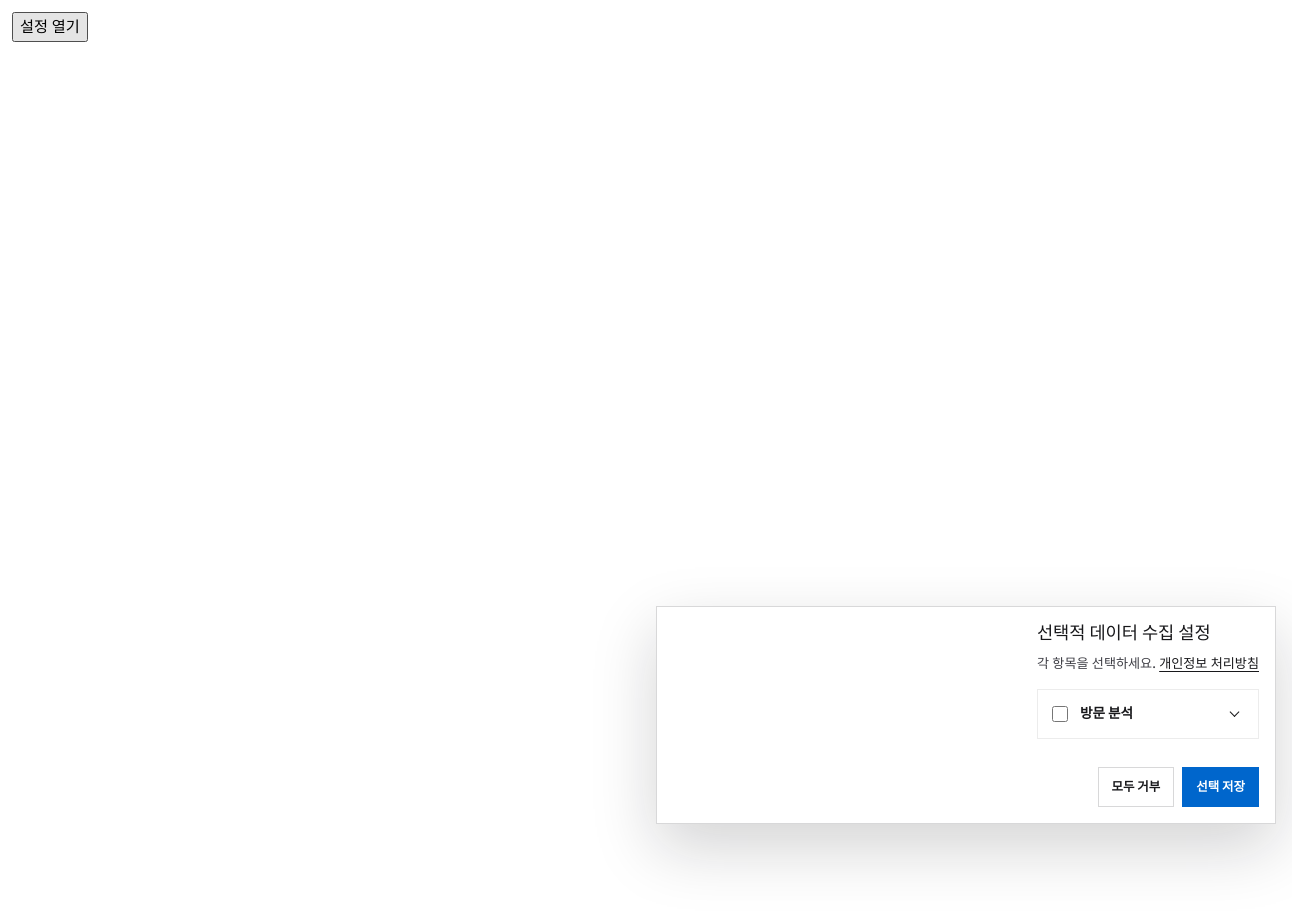
Test: AnalyticsConsentProvider › 선택이 없으면 배너를 열고 거부를 180일 저장한다
Step 1. Click the button "모두 거부" → (1136, 787), box [1098,767,1174,807]
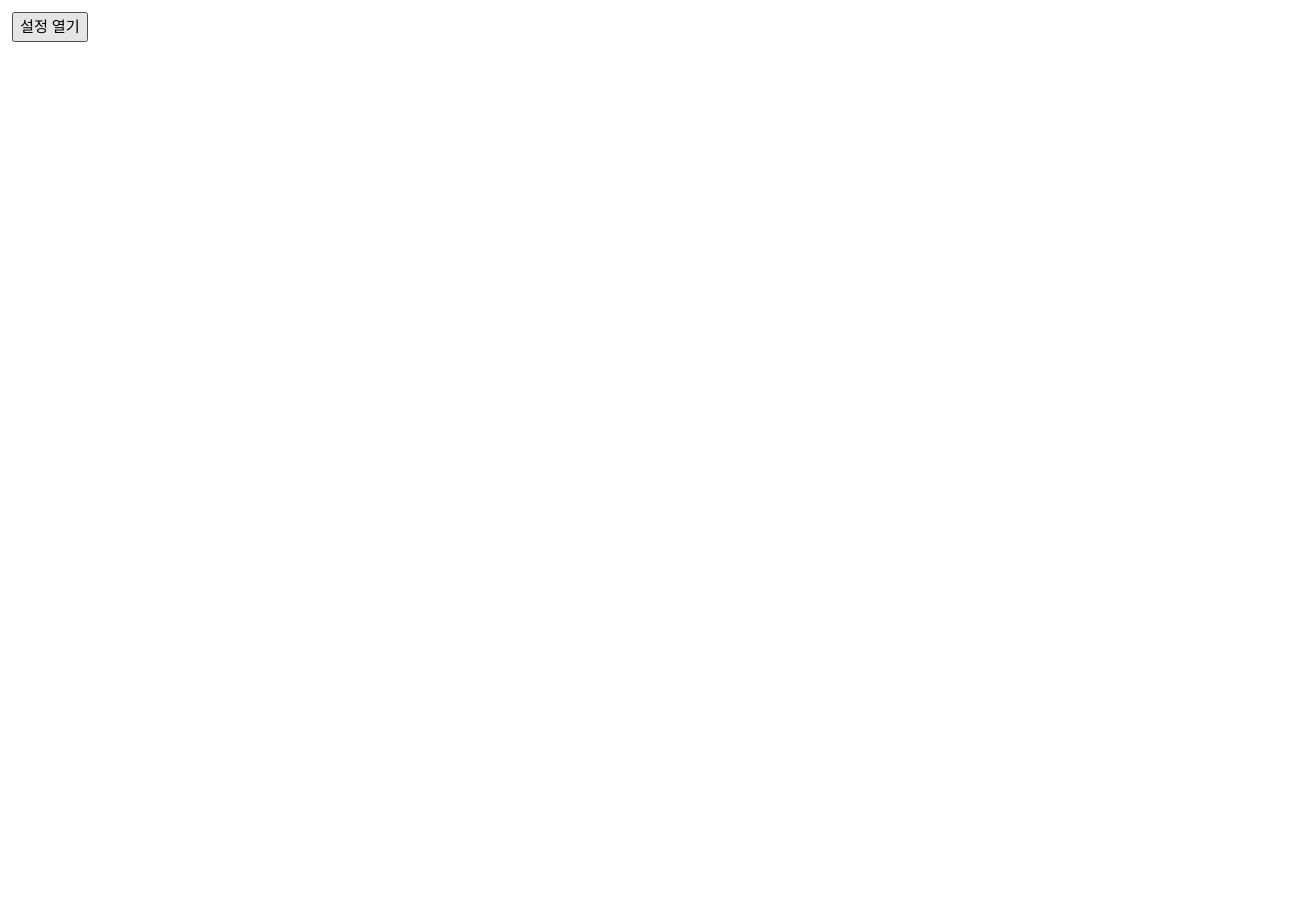
Now the heading labelled "선택적 데이터 수집 설정" is gone
